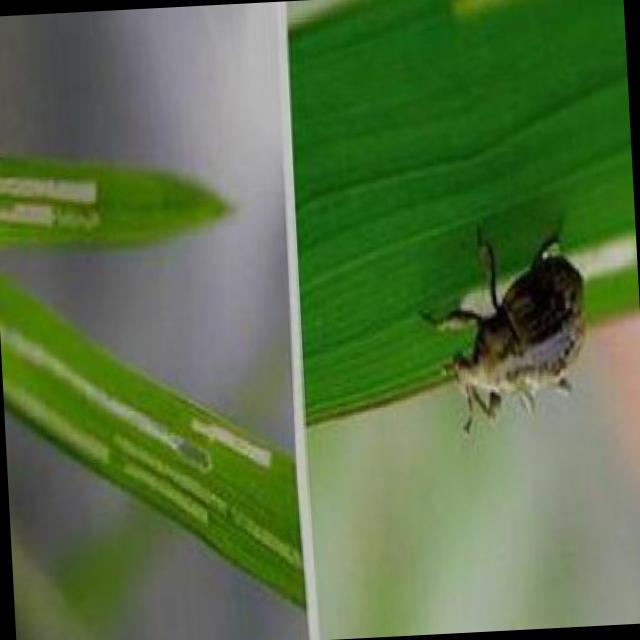rice-bug: (439, 226, 596, 427)
